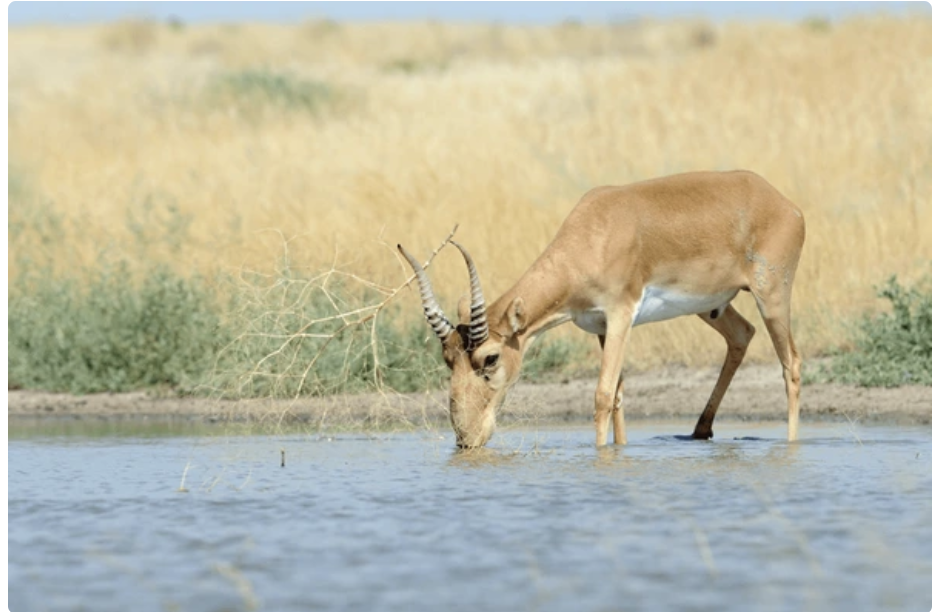saiga: (427, 166, 800, 460)
